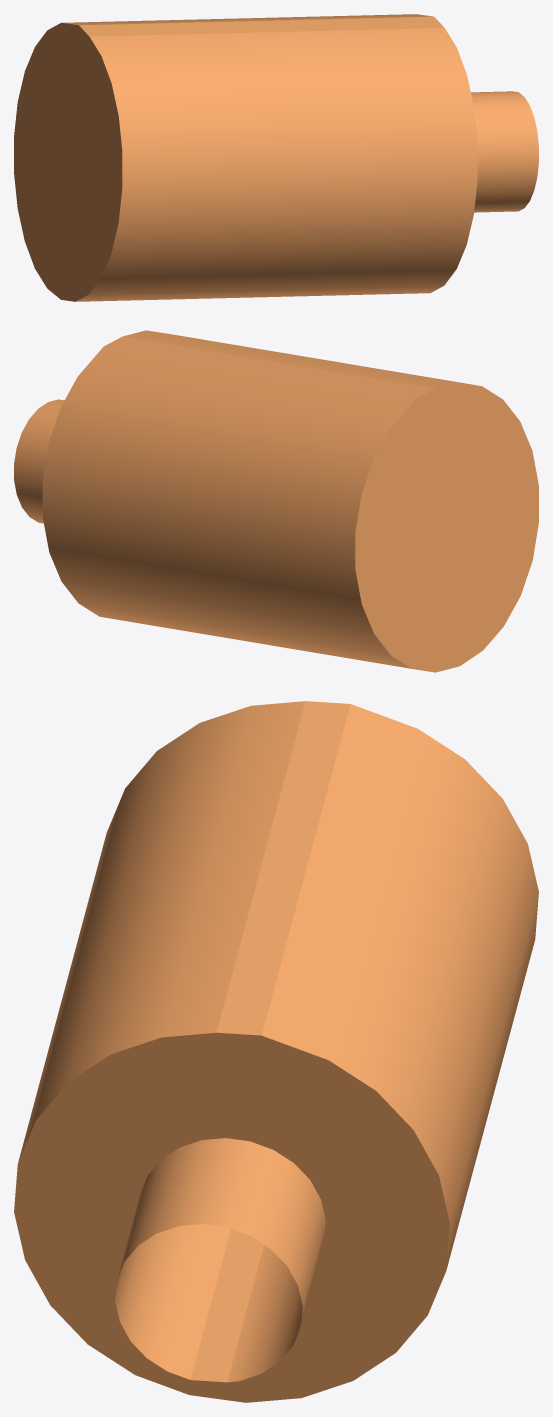
The model's file is LeftArm.FBX.
3 renders of one model, top to bottom at view 1: azimuth 30°, elevation 25°; view 2: azimuth 150°, elevation 25°; view 3: azimuth 270°, elevation 25°, orthographic. The views are drawn at different scales.
Visible parts, largest first — view 1: LeftArm; view 2: LeftArm; view 3: LeftArm.
Boxes of the visible parts, x1=… form: LeftArm: x1=14, y1=14, x2=538, y2=301; LeftArm: x1=14, y1=330, x2=538, y2=672; LeftArm: x1=14, y1=701, x2=538, y2=1402.
Size of the model in its own units: 4.45 by 2.86 by 2.86.
